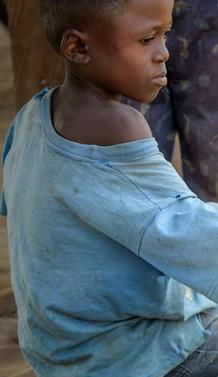Stunting: (44, 0, 195, 115)
